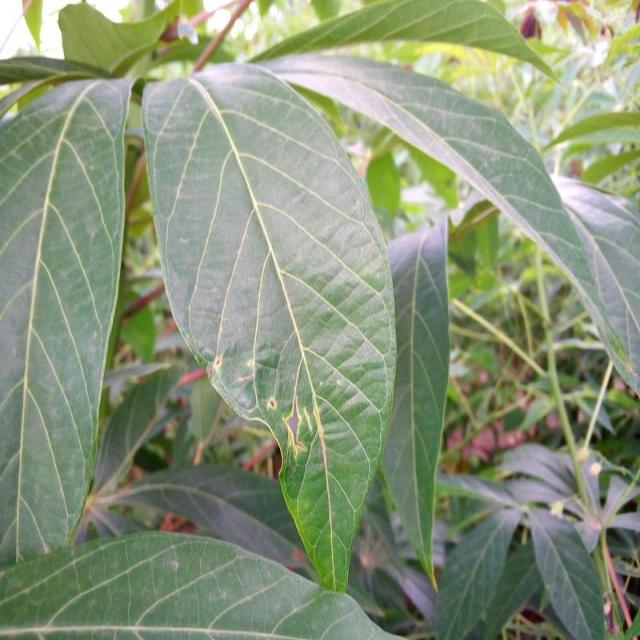cassava leaf: (140, 60, 398, 593), (0, 72, 132, 566), (378, 212, 451, 592)
